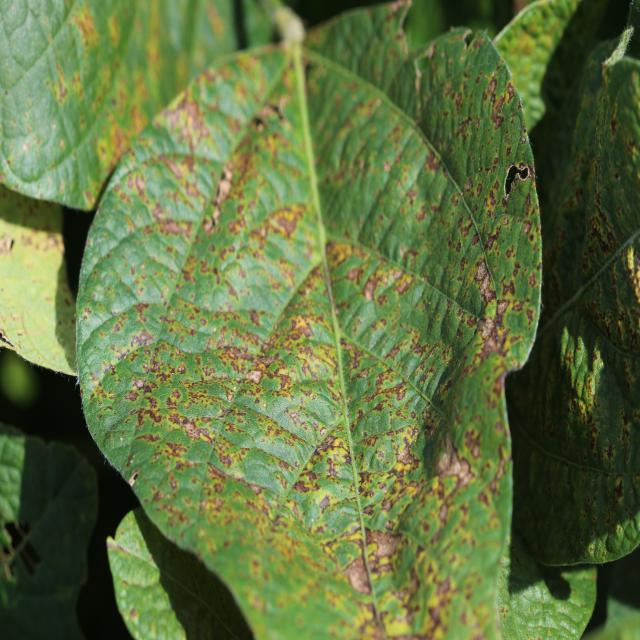Bacterial_Blight: (0, 2, 74, 95), (144, 348, 224, 398), (8, 116, 59, 179), (160, 92, 216, 149), (495, 94, 530, 172), (282, 297, 322, 344), (587, 204, 619, 257), (267, 206, 304, 240), (179, 418, 215, 443), (155, 217, 193, 238), (257, 100, 285, 127), (614, 26, 636, 59), (213, 172, 233, 208), (363, 272, 385, 301), (127, 328, 154, 350), (206, 463, 230, 482), (484, 225, 501, 251), (0, 233, 14, 255), (391, 0, 409, 17), (501, 278, 516, 297), (486, 76, 497, 99), (132, 377, 146, 390), (505, 246, 515, 259), (428, 43, 437, 57), (476, 183, 483, 198), (528, 274, 536, 287), (614, 172, 620, 180), (22, 143, 28, 151)
Soybean: (76, 4, 541, 638), (0, 427, 100, 640), (0, 205, 80, 378)
